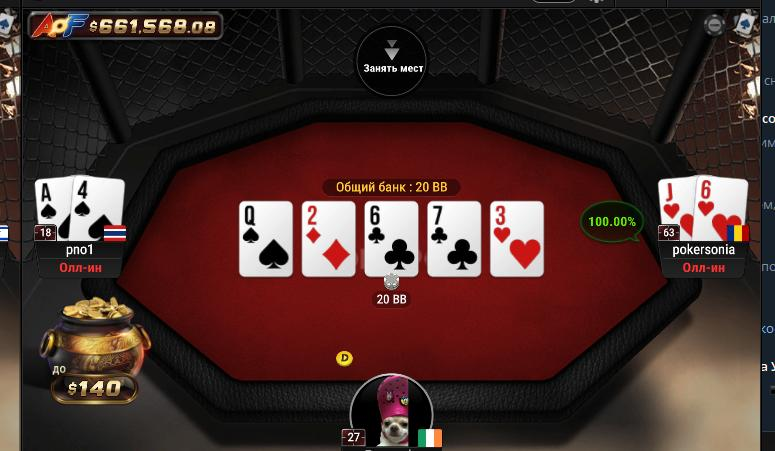2d: (302, 202, 356, 276)
3h: (490, 202, 544, 275)
4s: (72, 177, 123, 239)
6c: (365, 202, 418, 276)
6h: (694, 176, 746, 240)
7c: (429, 201, 481, 275)
As: (33, 179, 72, 241)
Jh: (658, 180, 695, 241)
Qs: (241, 202, 290, 276)
